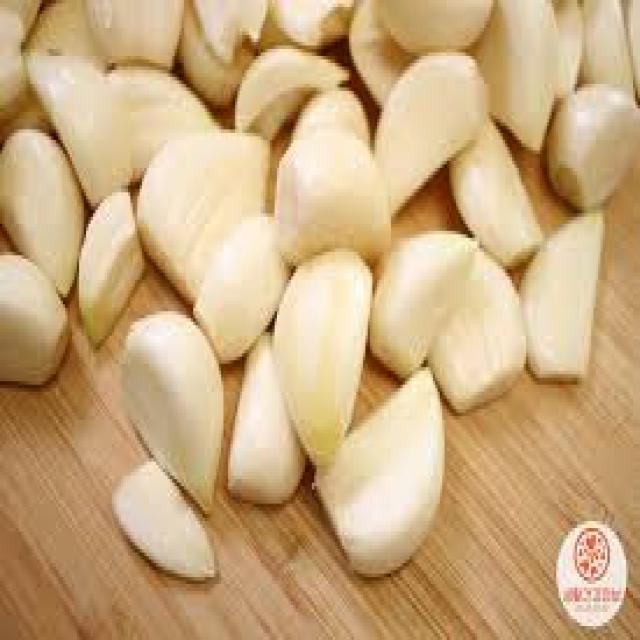Garlic bulb: (130, 101, 456, 574)
